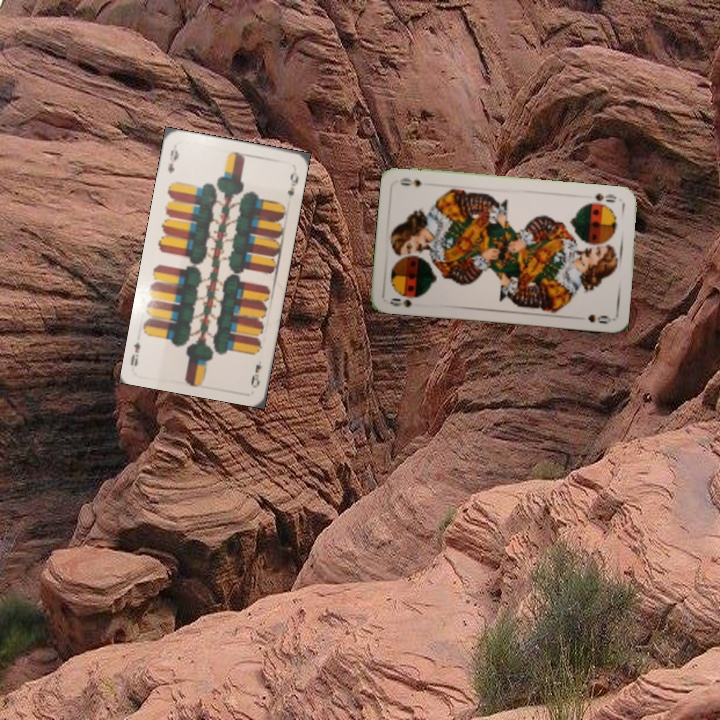E9: (247, 360, 264, 391), (164, 146, 181, 176)
SO: (386, 294, 414, 310), (591, 189, 619, 205)
